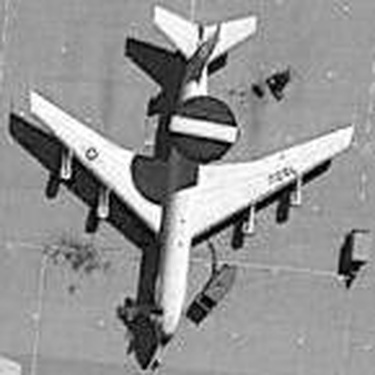airplane: (12, 1, 358, 353)
